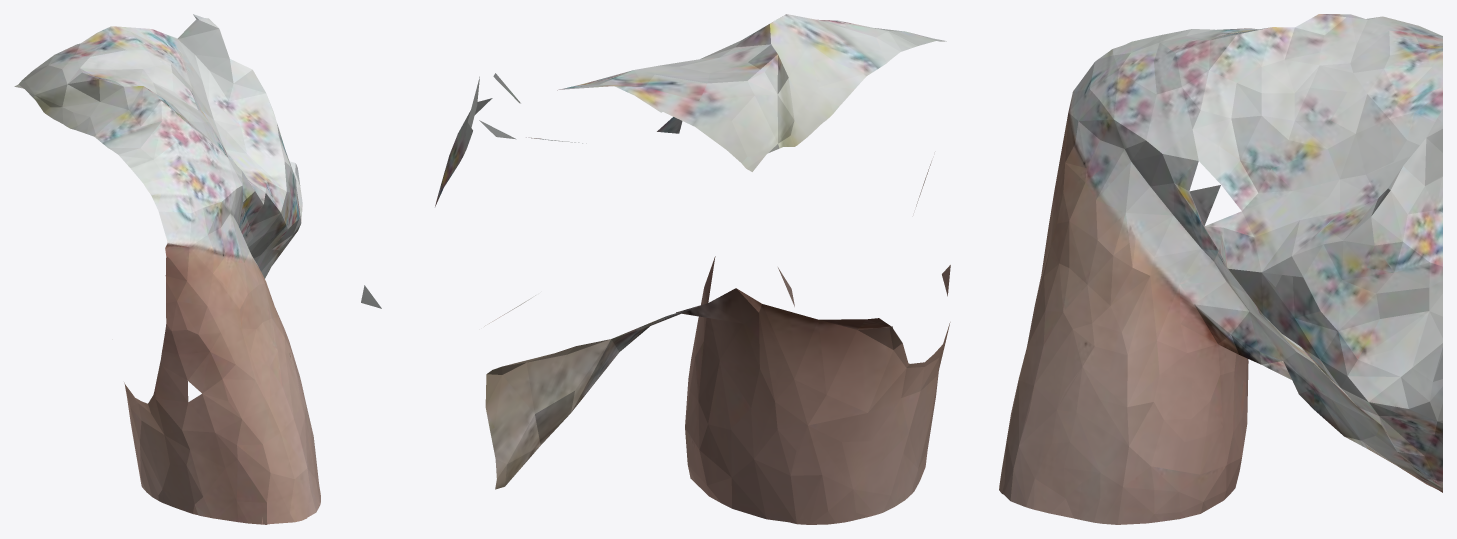
The picture shows the model from 3 angles, left to right: view 1: azimuth 30°, elevation 25°; view 2: azimuth 150°, elevation 25°; view 3: azimuth 270°, elevation 25°; orthographic projection. The views are drawn at different scales.
Bounding box in the file's own units: 189 × 231 × 213.
1 material, 1 textured.
